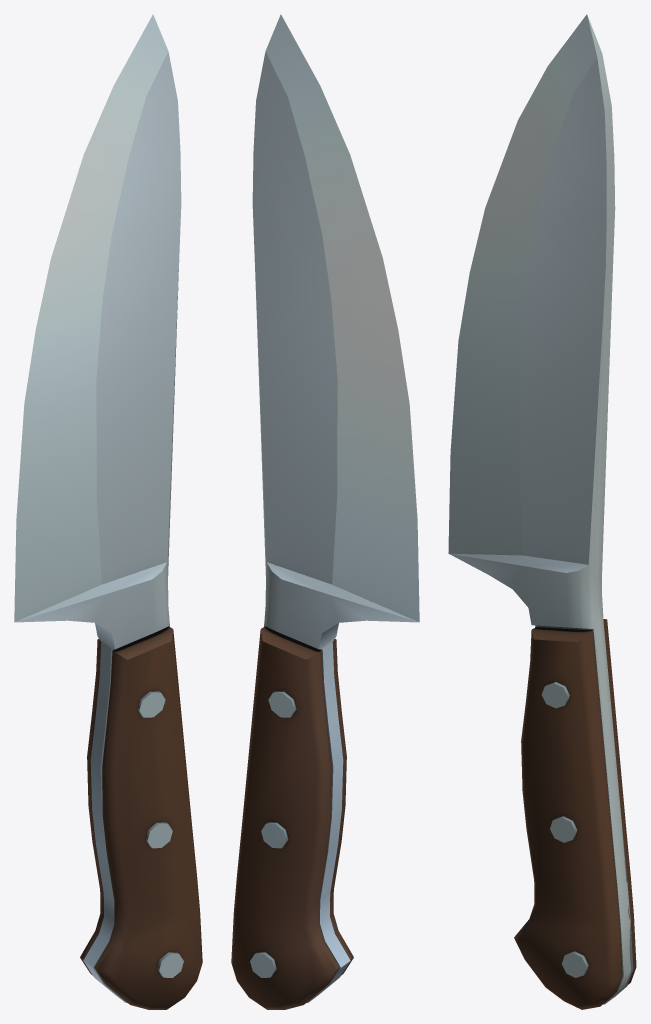
The model's file is Knife.obj.
3 views of the same model, side by side, from view 1: azimuth 30°, elevation 25°; view 2: azimuth 150°, elevation 25°; view 3: azimuth 330°, elevation 25° (orthographic).
Parts seen in each view (by area): view 1: Plane; view 2: Plane; view 3: Plane.
Part boxes in pixels (x1,y1,x2,y2): Plane: [14, 14, 202, 1009]; Plane: [231, 14, 419, 1009]; Plane: [448, 14, 636, 1009].
Size of the model in its own units: 0.9653 by 5.05 by 0.2931.
1 material, 1 textured.
